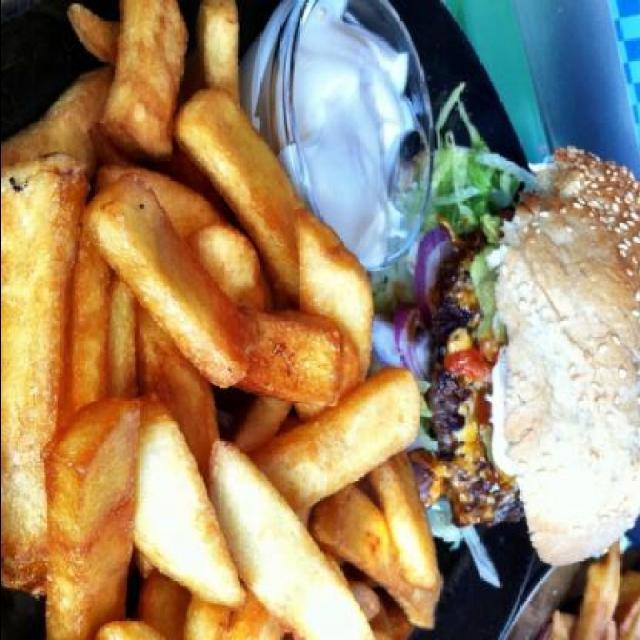Hamburger: (356, 78, 640, 588)
